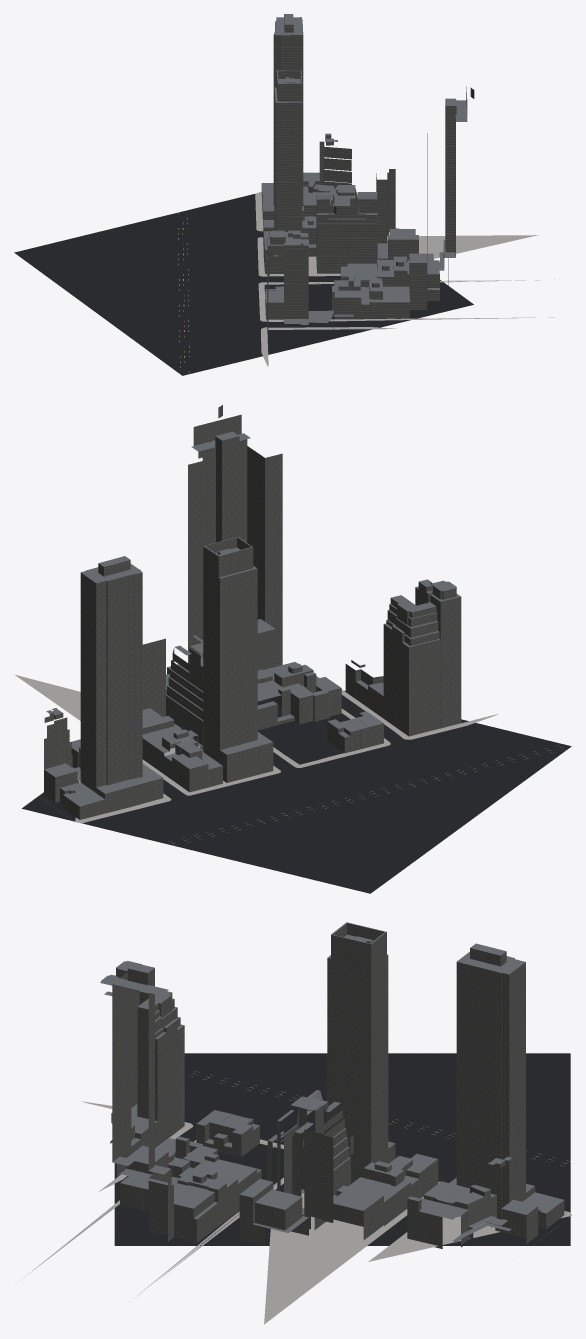
3 renders of one model, top to bottom at view 1: azimuth 30°, elevation 25°; view 2: azimuth 150°, elevation 25°; view 3: azimuth 270°, elevation 25°, orthographic. The views are drawn at different scales.
Visible parts, largest first — view 1: t2_4, detail; view 2: t2_4, detail; view 3: t2_4, detail.
Part boxes in pixels (box(x1,y1,x2,y2)): t2_4: box(14, 14, 474, 375); detail: box(178, 192, 554, 372); t2_4: box(22, 405, 571, 893); detail: box(15, 675, 560, 843); t2_4: box(100, 922, 570, 1248); detail: box(20, 1071, 571, 1324).
Bounding box in the file's own units: 352 × 177 × 306.
Materials: 4 (2 with a texture image).
